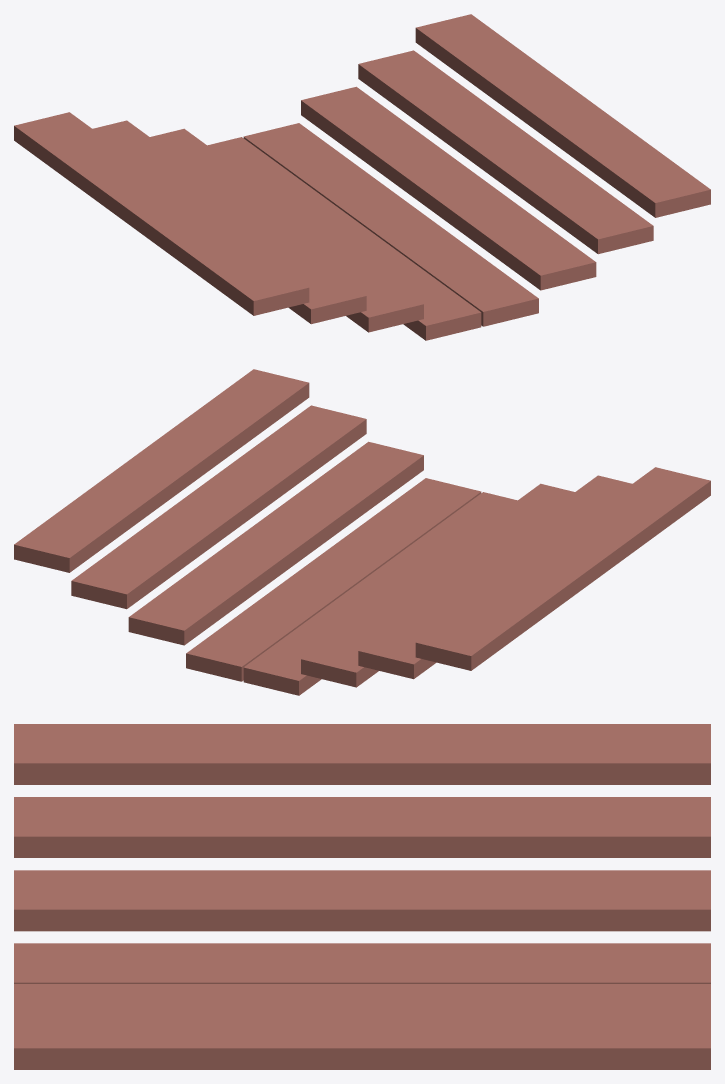
The model's file is iz2_roof_tile_slope.glb.
3 views of the same model, one above another, from view 1: azimuth 30°, elevation 25°; view 2: azimuth 150°, elevation 25°; view 3: azimuth 270°, elevation 25° (orthographic). The views are drawn at different scales.
Parts seen in each view (by area): view 1: roof_06, roof_07, roof_05, roof_00, roof_04, roof_01, roof_02, roof_03; view 2: roof_06, roof_07, roof_05, roof_00, roof_04, roof_01, roof_02, roof_03; view 3: roof_02, roof_00, roof_01, roof_07, roof_03, roof_04, roof_05, roof_06.
Part boxes in pixels (x1,y1,x2,y2): roof_06: (358, 50, 653, 254); roof_07: (415, 14, 710, 217); roof_05: (301, 86, 596, 290); roof_00: (14, 112, 309, 315); roof_04: (243, 123, 538, 326); roof_01: (92, 120, 366, 324); roof_02: (150, 128, 423, 332); roof_03: (207, 137, 481, 340); roof_06: (71, 405, 366, 609); roof_07: (14, 369, 309, 572); roof_05: (128, 441, 423, 645); roof_00: (415, 467, 710, 670); roof_04: (186, 478, 481, 681); roof_01: (358, 475, 632, 679); roof_02: (301, 483, 574, 687); roof_03: (243, 492, 517, 695); roof_02: (14, 870, 710, 931); roof_00: (14, 724, 710, 784); roof_01: (14, 797, 710, 857); roof_07: (14, 1009, 710, 1069); roof_03: (14, 943, 710, 983); roof_04: (14, 984, 710, 992); roof_05: (14, 992, 710, 1000); roof_06: (14, 1000, 710, 1008).
Size of the model in its own units: 2.58 by 0.44 by 2.34.
